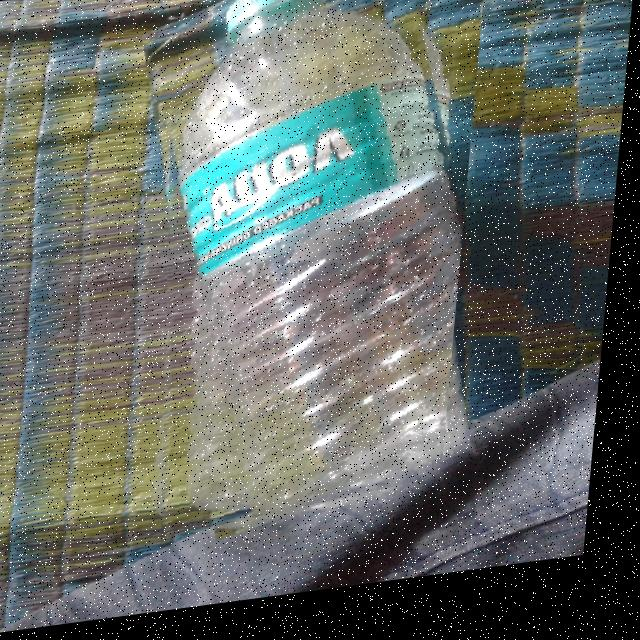plasticbottle: (134, 0, 489, 547)
